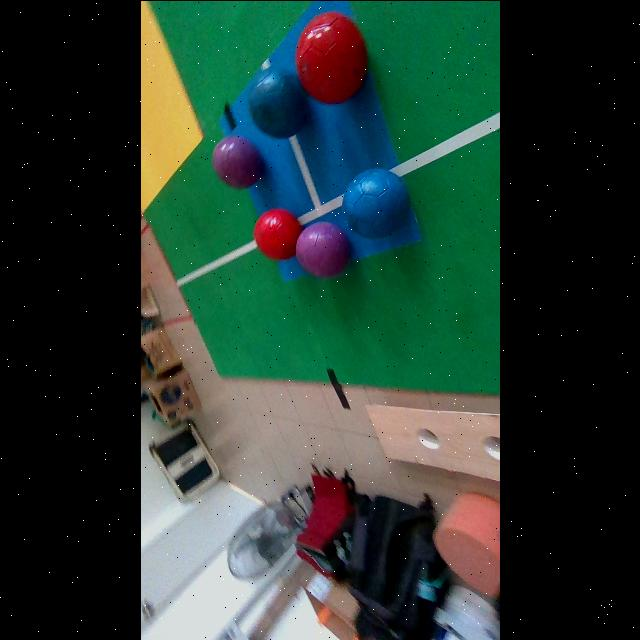B: (342, 167, 409, 238), (247, 71, 307, 138)
P: (297, 221, 350, 275), (212, 135, 263, 188)
R: (294, 10, 366, 102), (253, 208, 301, 259)
